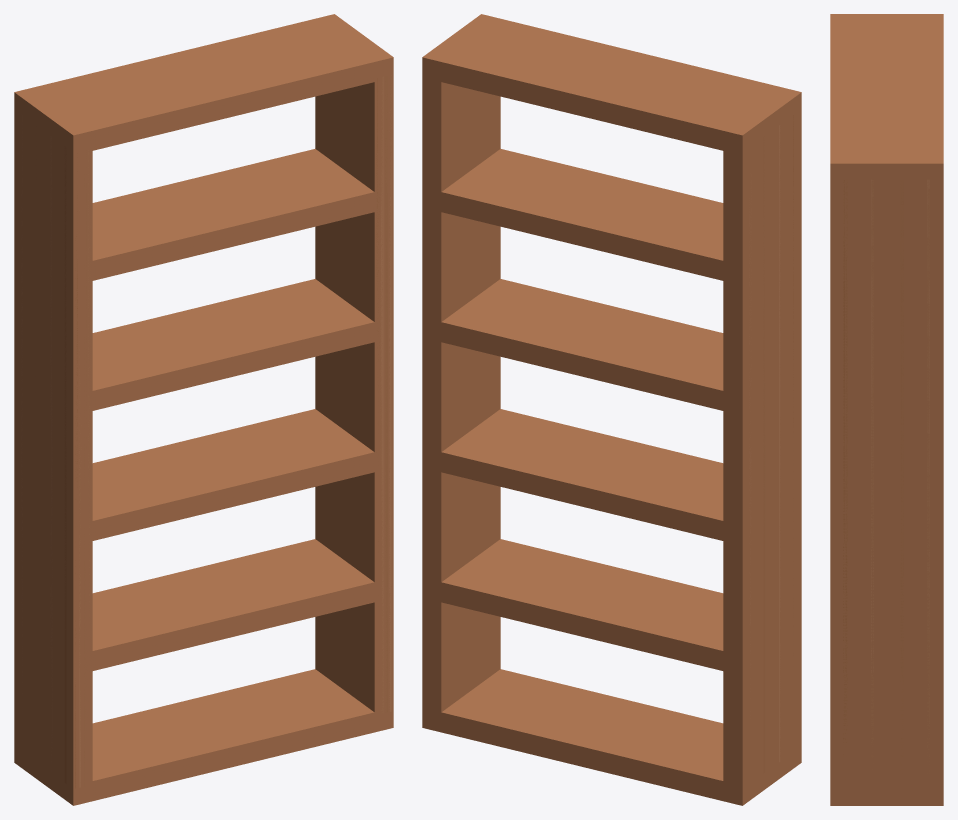
3 views of the same model, side by side, from view 1: azimuth 30°, elevation 25°; view 2: azimuth 150°, elevation 25°; view 3: azimuth 270°, elevation 25° (orthographic). The views are drawn at different scales.
Visible parts, largest first — view 1: side_left_mesh, side_right_mesh, cap_top_mesh, shelf_level_4_mesh, shelf_bottom_mesh, shelf_level_3_mesh, shelf_level_5_mesh, shelf_level_2_mesh; view 2: side_left_mesh, side_right_mesh, cap_top_mesh, shelf_level_4_mesh, shelf_bottom_mesh, shelf_level_3_mesh, shelf_level_5_mesh, shelf_level_2_mesh; view 3: side_right_mesh, cap_top_mesh, side_left_mesh.
Boxes of the visible parts, x1,y1,x2,y2 form: side_left_mesh: [14, 87, 92, 805]; side_right_mesh: [315, 14, 393, 732]; cap_top_mesh: [33, 18, 374, 150]; shelf_level_4_mesh: [92, 279, 374, 410]; shelf_bottom_mesh: [92, 669, 374, 800]; shelf_level_3_mesh: [92, 409, 374, 540]; shelf_level_5_mesh: [92, 149, 374, 280]; shelf_level_2_mesh: [92, 539, 374, 670]; side_left_mesh: [723, 87, 801, 805]; side_right_mesh: [422, 14, 500, 732]; cap_top_mesh: [441, 18, 782, 150]; shelf_level_4_mesh: [441, 279, 723, 410]; shelf_bottom_mesh: [441, 669, 723, 800]; shelf_level_3_mesh: [441, 409, 723, 540]; shelf_level_5_mesh: [441, 149, 723, 280]; shelf_level_2_mesh: [441, 539, 723, 670]; side_right_mesh: [830, 154, 943, 805]; cap_top_mesh: [830, 23, 943, 154]; side_left_mesh: [830, 14, 943, 22].
Bounding box in the file's own units: 100 × 200 × 32.
